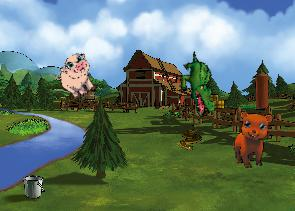bear: (232, 109, 276, 169)
crocodile: (167, 50, 230, 119)
pig: (50, 49, 104, 104)
